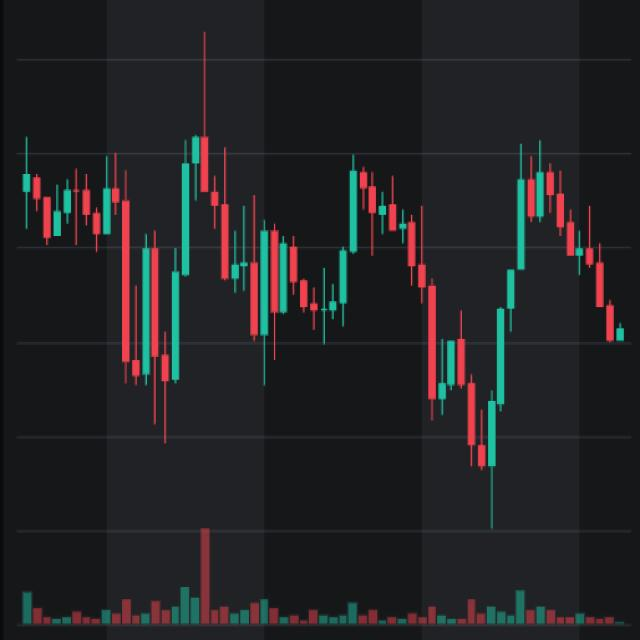Resistance-Emerging: (22, 134, 556, 471)
